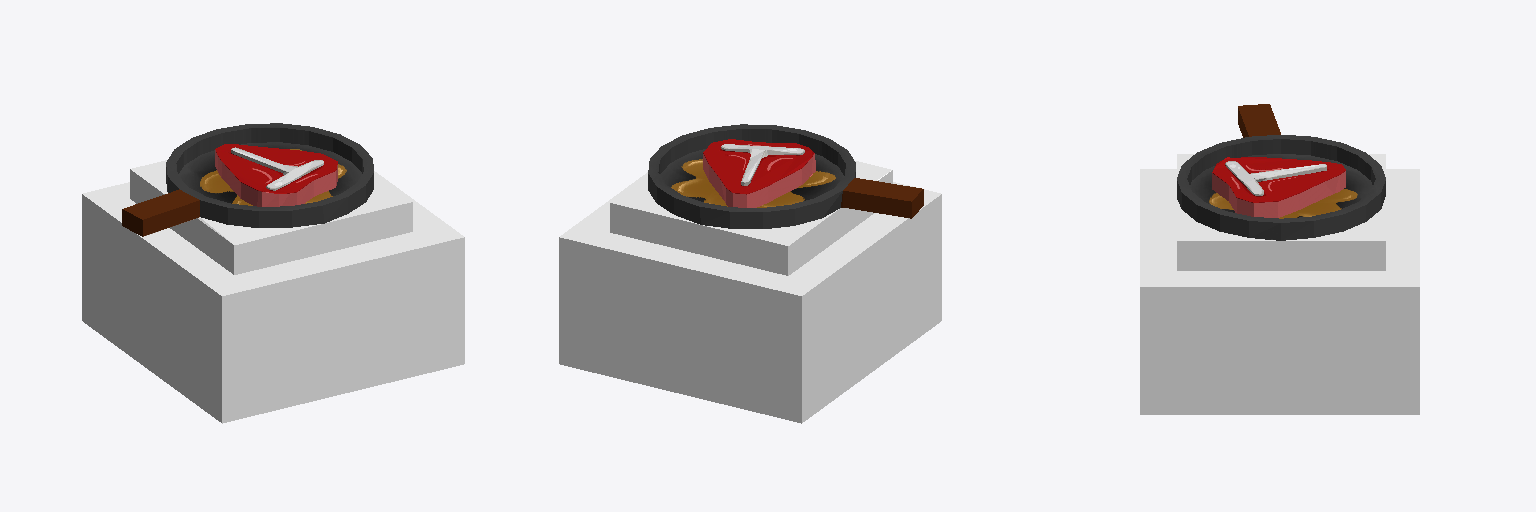
3 renders of one model, left to right at view 1: azimuth 30°, elevation 25°; view 2: azimuth 150°, elevation 25°; view 3: azimuth 270°, elevation 25°, orthographic.
Parts seen in each view (by area): view 1: pasted__pasted__pCube1pasted__groupgroup3; view 2: pasted__pasted__pCube1pasted__groupgroup3; view 3: pasted__pasted__pCube1pasted__groupgroup3.
Boxes of the visible parts, x1=… form: pasted__pasted__pCube1pasted__groupgroup3: x1=82, y1=123, x2=464, y2=423; pasted__pasted__pCube1pasted__groupgroup3: x1=559, y1=124, x2=941, y2=423; pasted__pasted__pCube1pasted__groupgroup3: x1=1140, y1=104, x2=1419, y2=414.
Bounding box in the file's own units: 1.14 × 0.7145 × 1.
Materials: 2 (2 with a texture image).